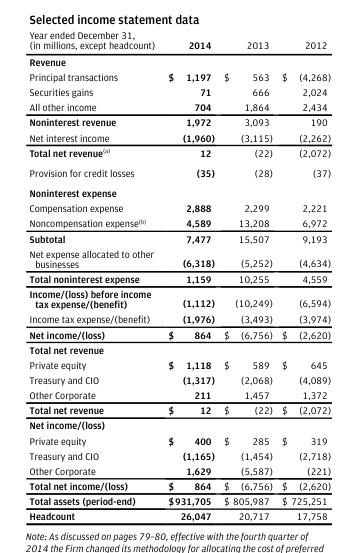table: (28, 28, 330, 521)
table column: (28, 28, 160, 521), (160, 28, 218, 521), (218, 28, 276, 521), (276, 28, 330, 521)
table column header: (28, 28, 330, 52)
table projected row header: (28, 182, 330, 200), (28, 52, 330, 68), (28, 341, 330, 356), (28, 417, 330, 432)
table row: (28, 285, 330, 311), (28, 245, 330, 270), (28, 28, 330, 52), (28, 162, 330, 182), (28, 144, 330, 162), (28, 182, 330, 200), (28, 52, 330, 68), (28, 83, 330, 99), (28, 386, 330, 402), (28, 492, 330, 508), (28, 68, 330, 83), (28, 99, 330, 114), (28, 114, 330, 129), (28, 129, 330, 144), (28, 200, 330, 215), (28, 215, 330, 230), (28, 230, 330, 245), (28, 270, 330, 285), (28, 311, 330, 326), (28, 326, 330, 341), (28, 341, 330, 356), (28, 356, 330, 371), (28, 371, 330, 386), (28, 402, 330, 417), (28, 417, 330, 432), (28, 432, 330, 447), (28, 447, 330, 462), (28, 462, 330, 477), (28, 477, 330, 492), (28, 508, 330, 521)
